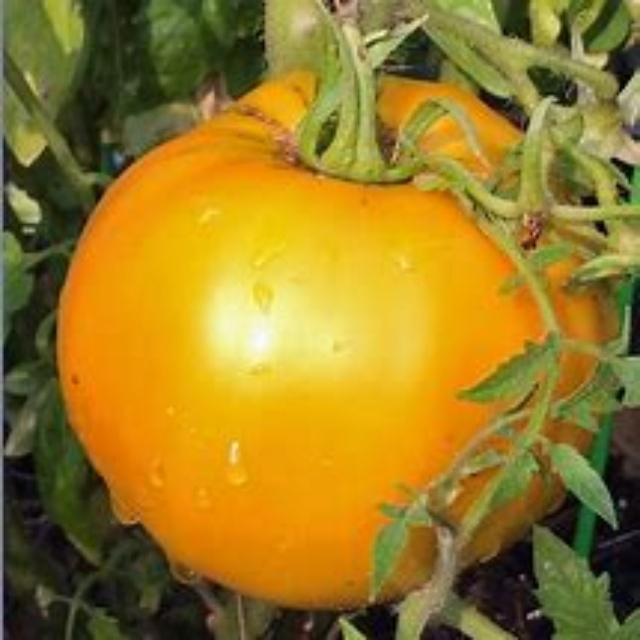tomato: (54, 65, 625, 608)
